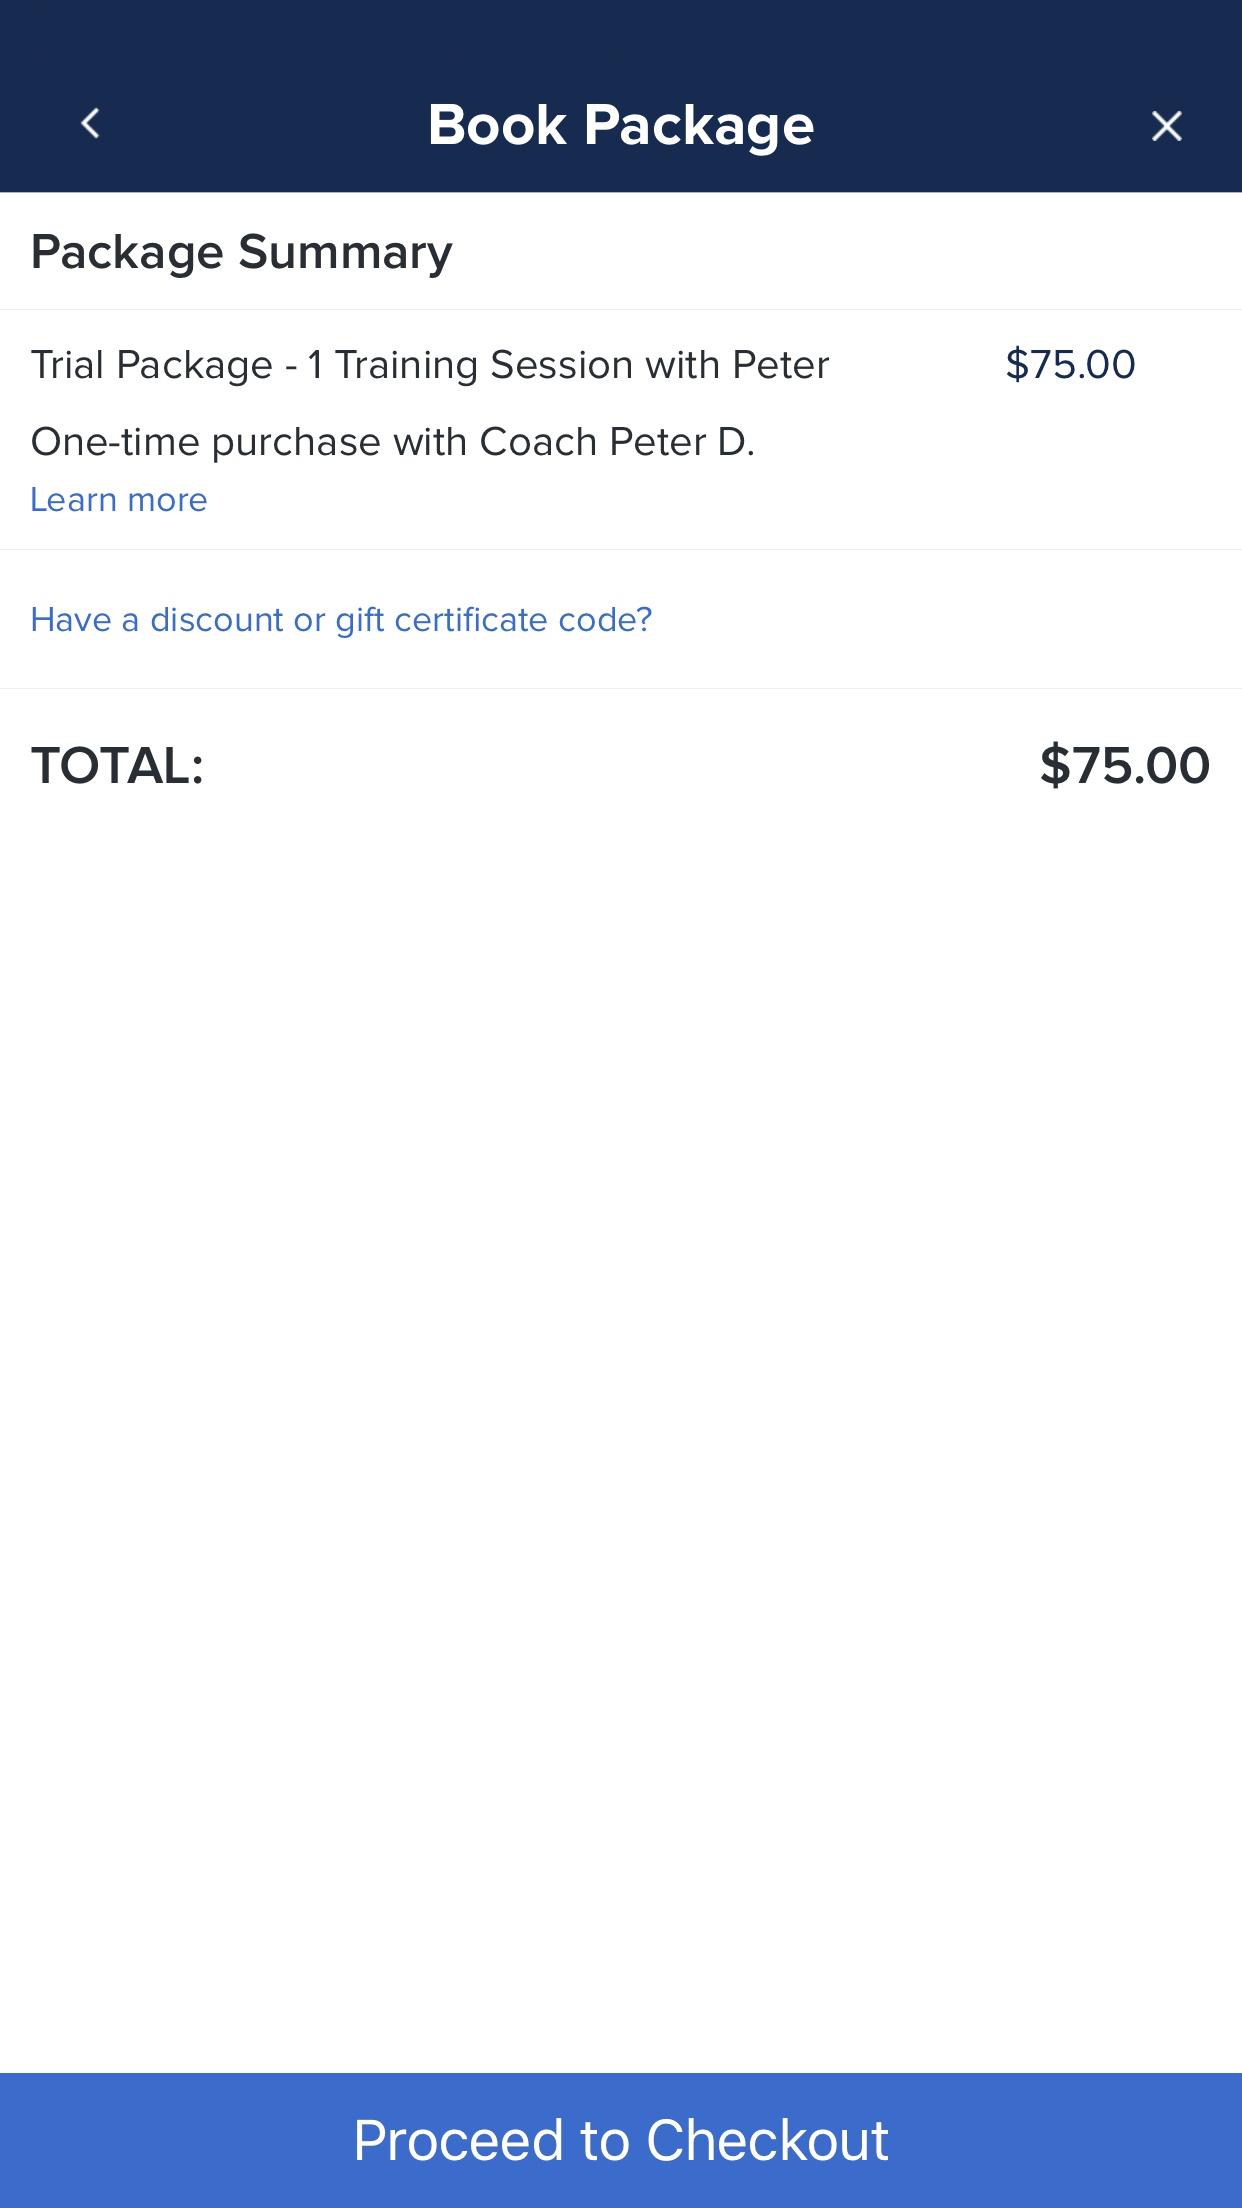Icon: (1151, 111, 1183, 143), (80, 108, 102, 140)
Text: (32, 350, 830, 388), (32, 426, 754, 464), (431, 105, 814, 158), (33, 607, 654, 638), (33, 234, 453, 281), (1040, 742, 1210, 790), (30, 745, 203, 786), (1007, 346, 1136, 384), (32, 487, 208, 513)
TextButton: (2, 2073, 1242, 2208)
